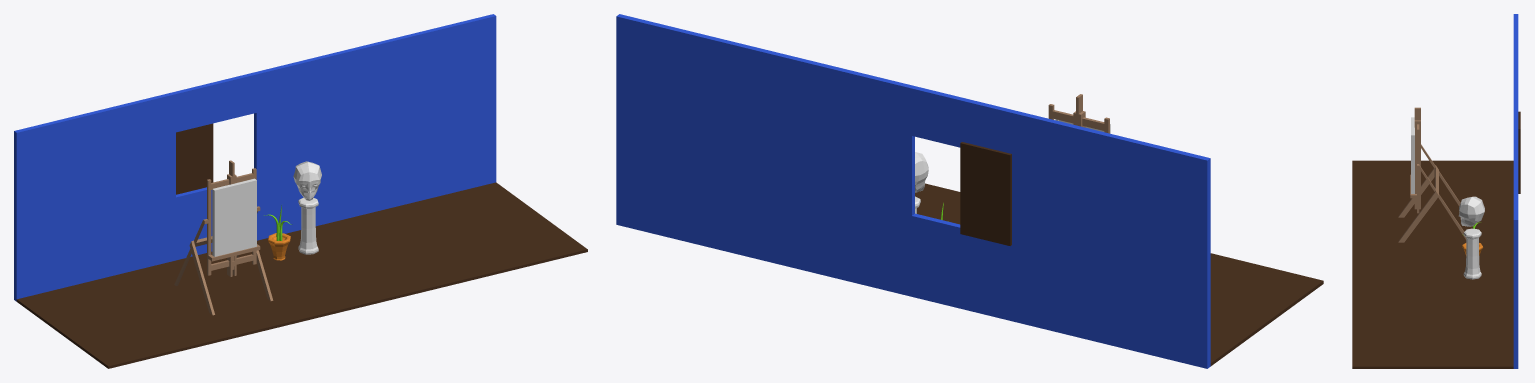
The model's file is DDSCenario.fbx.
The picture shows the model from 3 angles, left to right: view 1: azimuth 30°, elevation 25°; view 2: azimuth 150°, elevation 25°; view 3: azimuth 270°, elevation 25°; orthographic projection. The views are drawn at different scales.
Visible parts, largest first — view 1: Parede/Chao, Tela, cavalete, Janela, Pedestal, Cabeça; view 2: Parede/Chao, Janela, cavalete; view 3: Parede/Chao, cavalete, Pedestal, Cabeça, Tela, Janela.
Part boxes in pixels (box(x1,y1,x2,y2)): Parede/Chao: box(14, 14, 587, 368); Tela: box(212, 178, 256, 256); cavalete: box(174, 160, 273, 315); Janela: box(176, 123, 213, 194); Pedestal: box(298, 197, 318, 254); Cabeça: box(293, 161, 321, 200); Parede/Chao: box(616, 14, 1323, 368); Janela: box(960, 142, 1011, 245); cavalete: box(1048, 94, 1109, 133); Parede/Chao: box(1352, 14, 1518, 368); cavalete: box(1398, 107, 1466, 242); Pedestal: box(1463, 228, 1481, 279); Cabeça: box(1458, 196, 1484, 226); Tela: box(1411, 117, 1414, 193); Janela: box(1518, 111, 1520, 193).
Size of the model in its own units: 1821 by 615 by 629.
